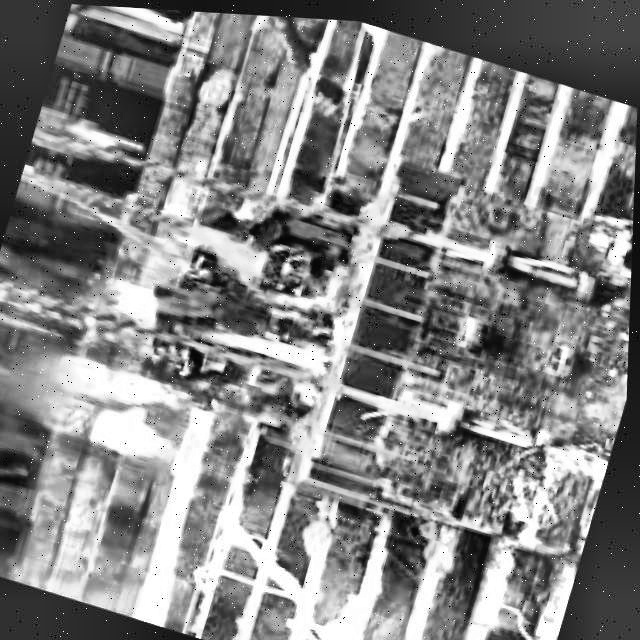Fire: (74, 187, 361, 385)
